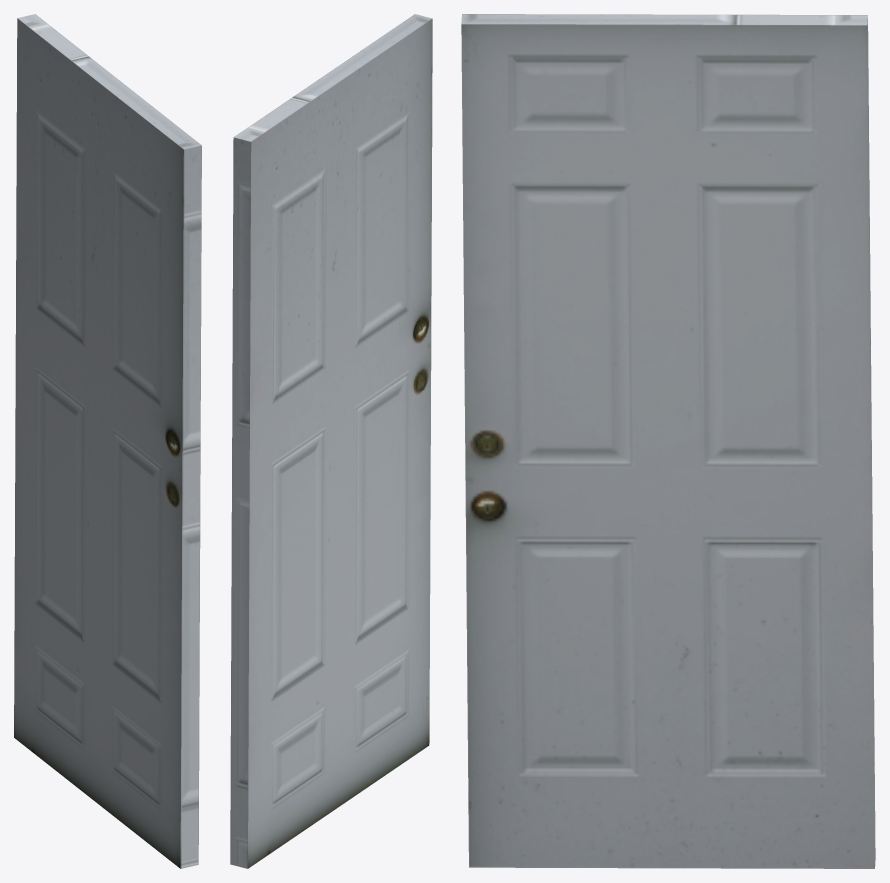
The model's file is Puerta.fbx.
3 renders of one model, left to right at view 1: azimuth 30°, elevation 25°; view 2: azimuth 150°, elevation 25°; view 3: azimuth 270°, elevation 25°, orthographic. The views are drawn at different scales.
Visible parts, largest first — view 1: Puerta.001; view 2: Puerta.001; view 3: Puerta.001.
Part boxes in pixels (x1,y1,x2,y2): Puerta.001: (14, 14, 201, 868); Puerta.001: (230, 14, 432, 868); Puerta.001: (461, 14, 875, 868).
Size of the model in its own units: 7.54 by 209 by 92.55.
Materials: 1 (1 with a texture image).
